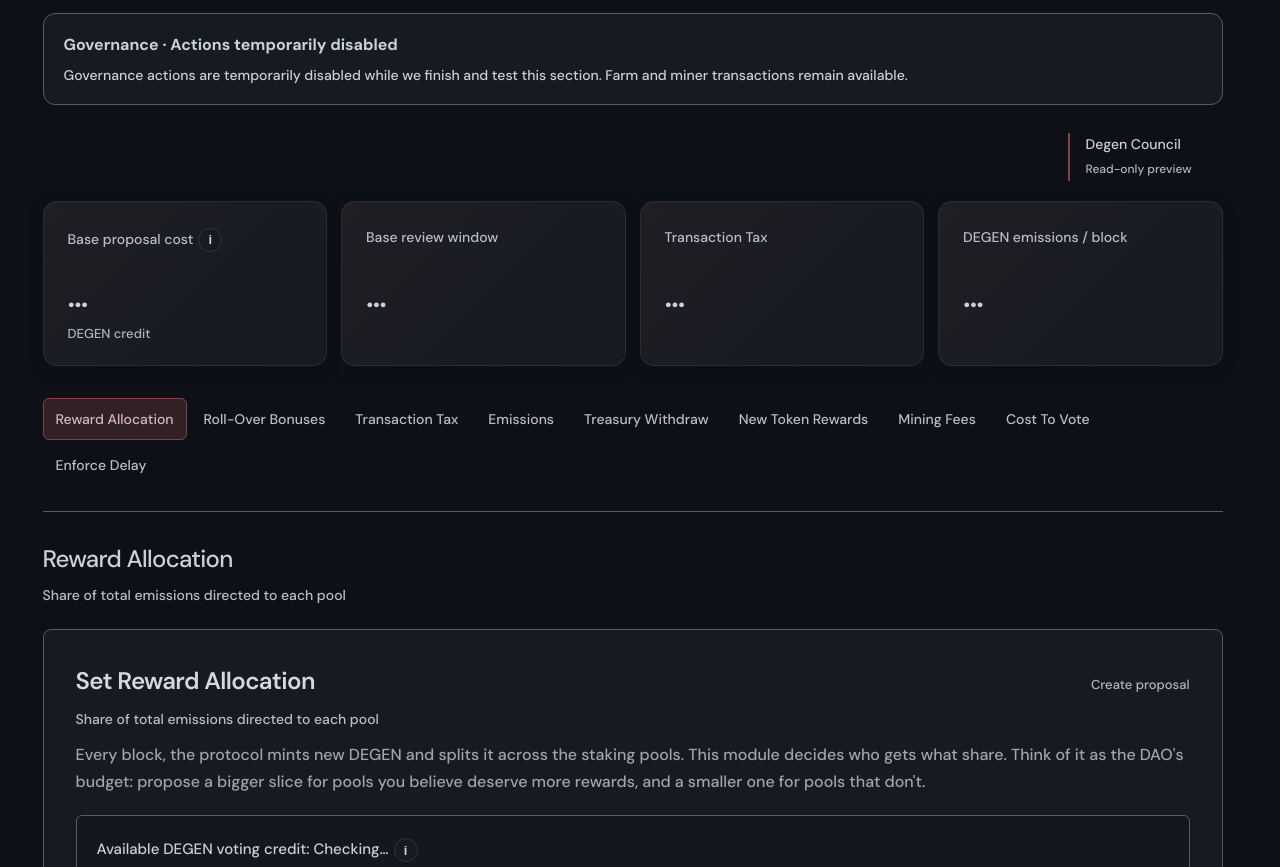
Test: chain-first proposal views › loads Treasury independently of failed metadata, while preserving token precision and recipient
Click the button "Treasury Withdraw": {"x": 646, "y": 419} [571,398,722,440]
(page scrolled)
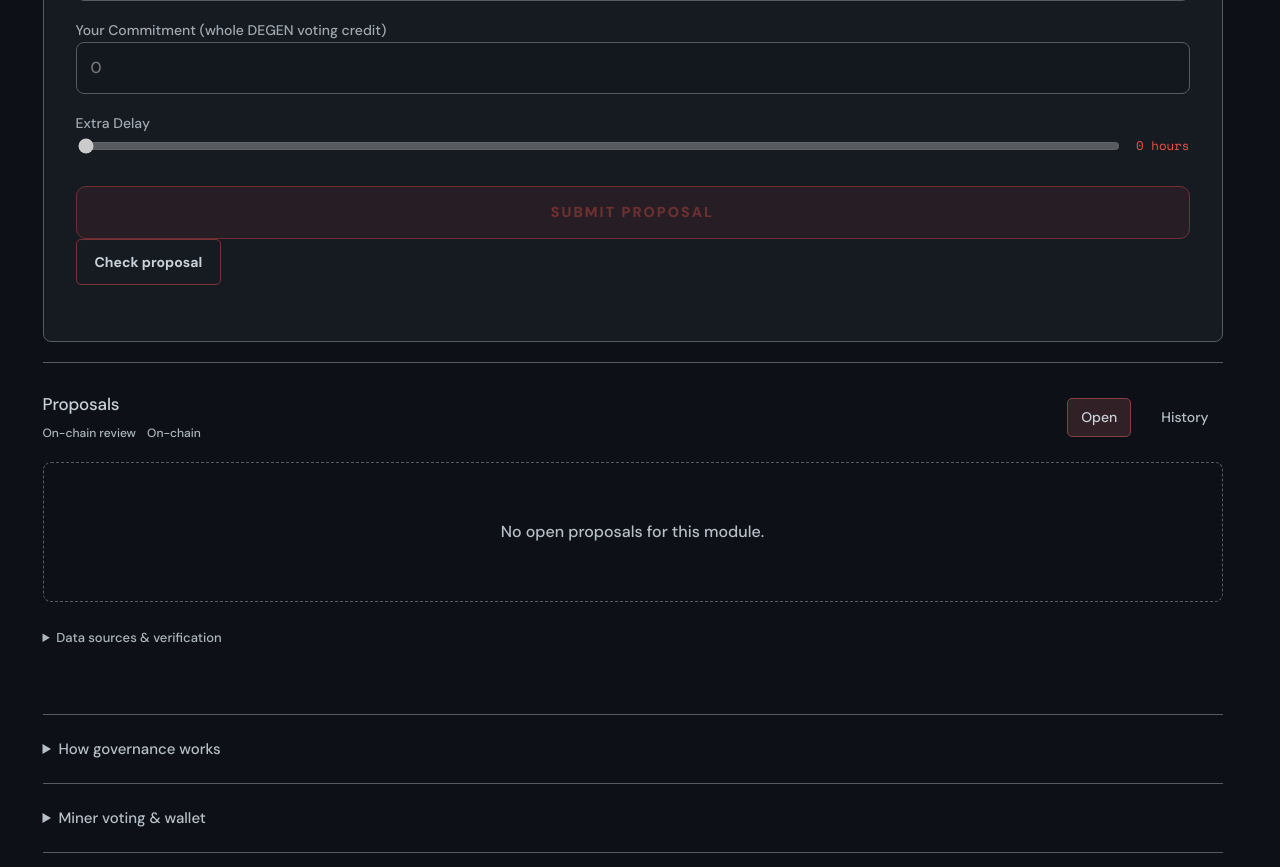
Check: the text "No open proposals for this module." is shown, box [42,462,1222,602]
Click the button "History": {"x": 1185, "y": 417} [1147,398,1223,436]
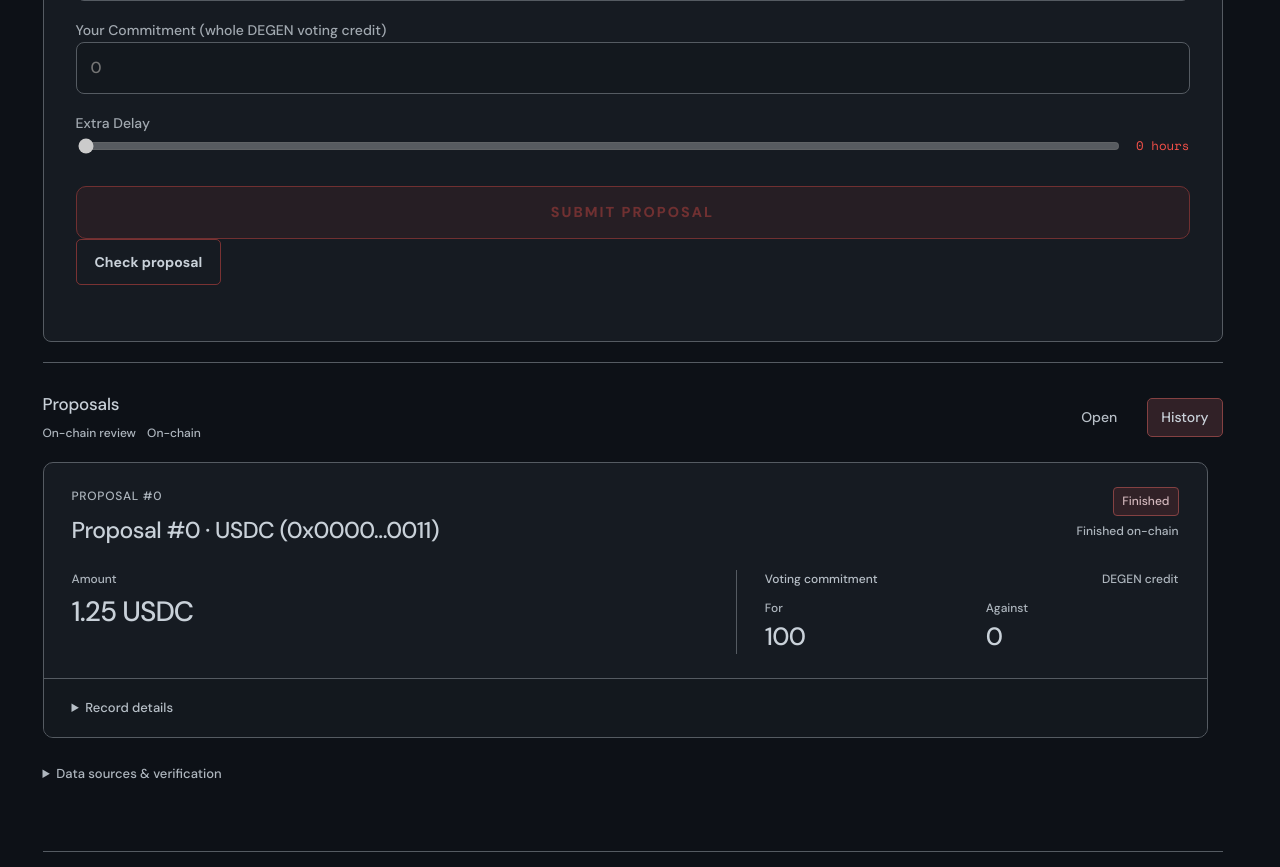
Check: the text "1.25 USDC" is shown, box [72,593,193,630]
